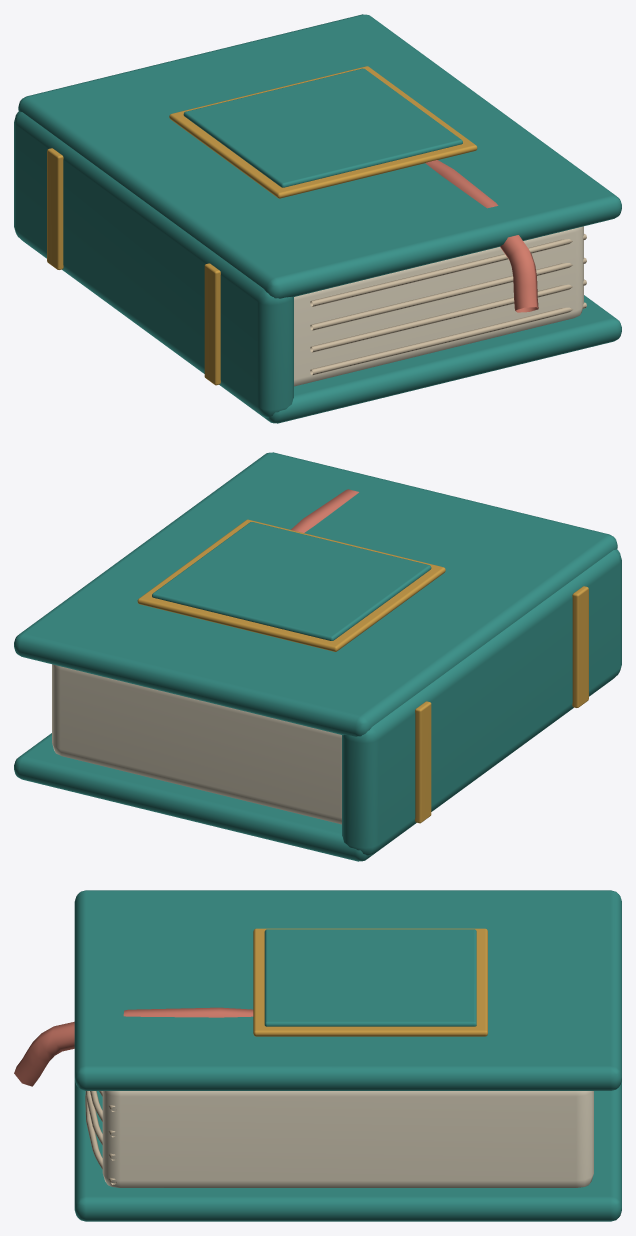
The model's file is book.glb.
3 views of the same model, one above another, from view 1: azimuth 30°, elevation 25°; view 2: azimuth 150°, elevation 25°; view 3: azimuth 270°, elevation 25° (orthographic). The views are drawn at different scales.
Visible parts, largest first — view 1: Crafted_teal, Crafted_paper, Crafted_brass, Crafted_seam, Crafted_coral; view 2: Crafted_teal, Crafted_paper, Crafted_brass, Crafted_coral; view 3: Crafted_teal, Crafted_paper, Crafted_brass, Crafted_coral, Crafted_seam.
Boxes of the visible parts, x1,y1,x2,y2 form: Crafted_teal: [14, 14, 621, 423]; Crafted_paper: [294, 226, 583, 386]; Crafted_brass: [47, 66, 477, 385]; Crafted_seam: [310, 234, 586, 375]; Crafted_coral: [425, 160, 538, 312]; Crafted_teal: [14, 452, 621, 861]; Crafted_paper: [52, 664, 341, 824]; Crafted_brass: [137, 519, 588, 823]; Crafted_coral: [291, 489, 358, 532]; Crafted_teal: [74, 890, 621, 1221]; Crafted_paper: [102, 1091, 593, 1187]; Crafted_brass: [253, 928, 487, 1036]; Crafted_coral: [14, 1007, 253, 1086]; Crafted_seam: [85, 1091, 116, 1184].
Size of the model in its own units: 0.4035 by 0.163 by 0.5444.
